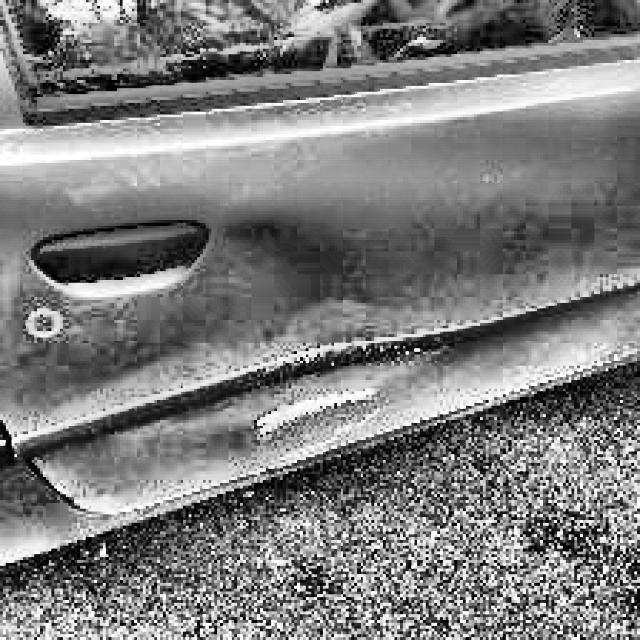door_dent: (217, 218, 383, 368)
door_scratch: (244, 387, 388, 460)
